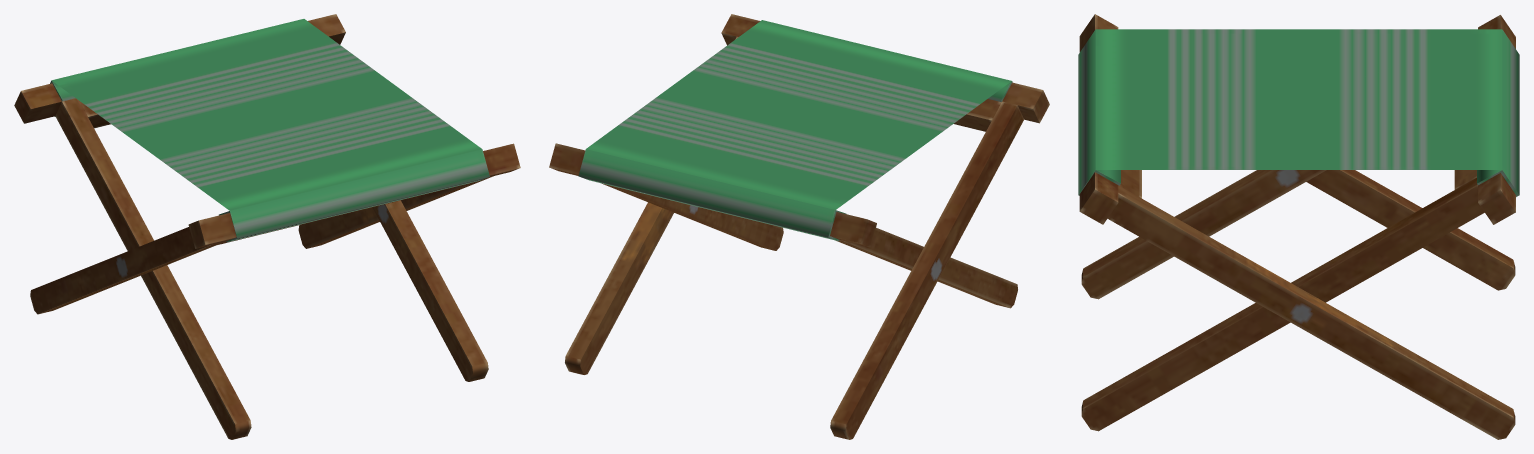
File: pi_chair01_dlc1_05_01.gltf
3 renders of one model, left to right at view 1: azimuth 30°, elevation 25°; view 2: azimuth 150°, elevation 25°; view 3: azimuth 270°, elevation 25°, orthographic. The views are drawn at different scales.
Visible parts, largest first — view 1: pi_chair01_dlc1_05_01_mesh_shape:pi_chair01_dlc1_15_main; view 2: pi_chair01_dlc1_05_01_mesh_shape:pi_chair01_dlc1_15_main; view 3: pi_chair01_dlc1_05_01_mesh_shape:pi_chair01_dlc1_15_main.
Boxes of the visible parts, left/top/right/bottom form: pi_chair01_dlc1_05_01_mesh_shape:pi_chair01_dlc1_15_main: left=14, top=14, right=520, bottom=439; pi_chair01_dlc1_05_01_mesh_shape:pi_chair01_dlc1_15_main: left=549, top=14, right=1049, bottom=439; pi_chair01_dlc1_05_01_mesh_shape:pi_chair01_dlc1_15_main: left=1078, top=14, right=1519, bottom=439.
Size of what is drawn, in the model's own units: 0.4989 by 0.3463 by 0.53.
1 material, 1 textured.
